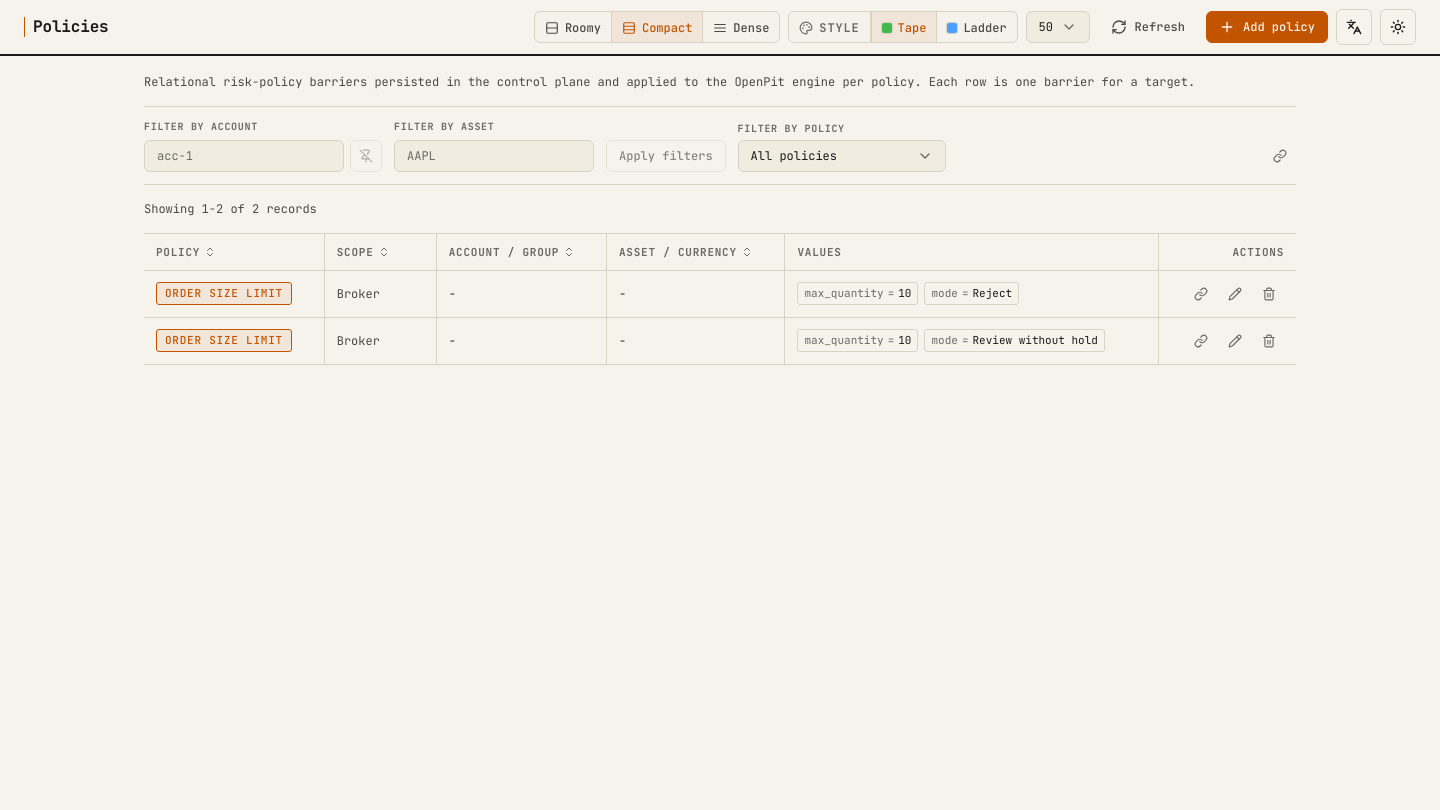
Test: Limits order-size barrier modes › confirms adding review_without_hold only when its existing count is zero (Review without hold, 1)
Click the button "Add policy" at (1267, 27), box [1206,11,1328,43]
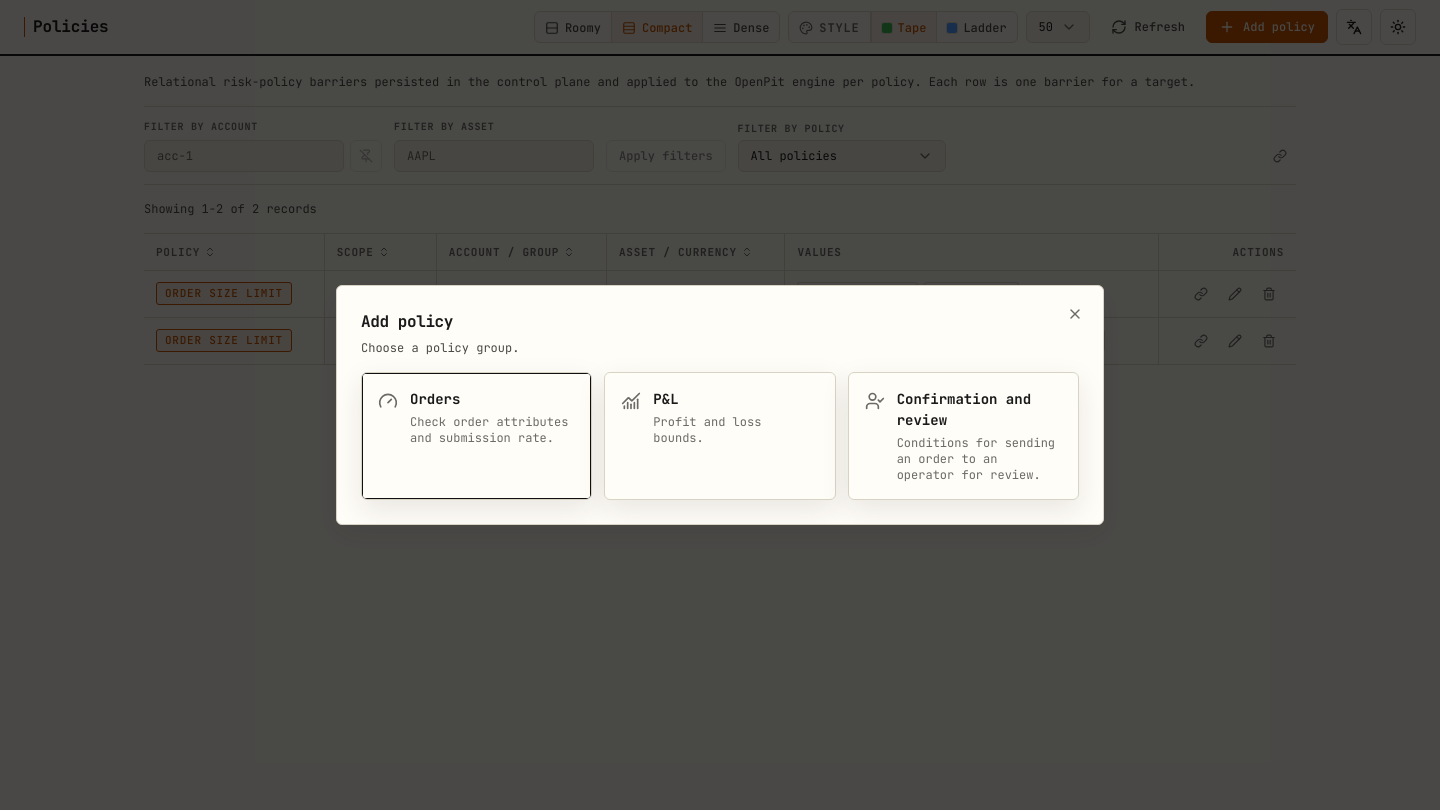
Click the button "Orders Check order attributes and submission rate." at (477, 436), box [362,373,591,499]
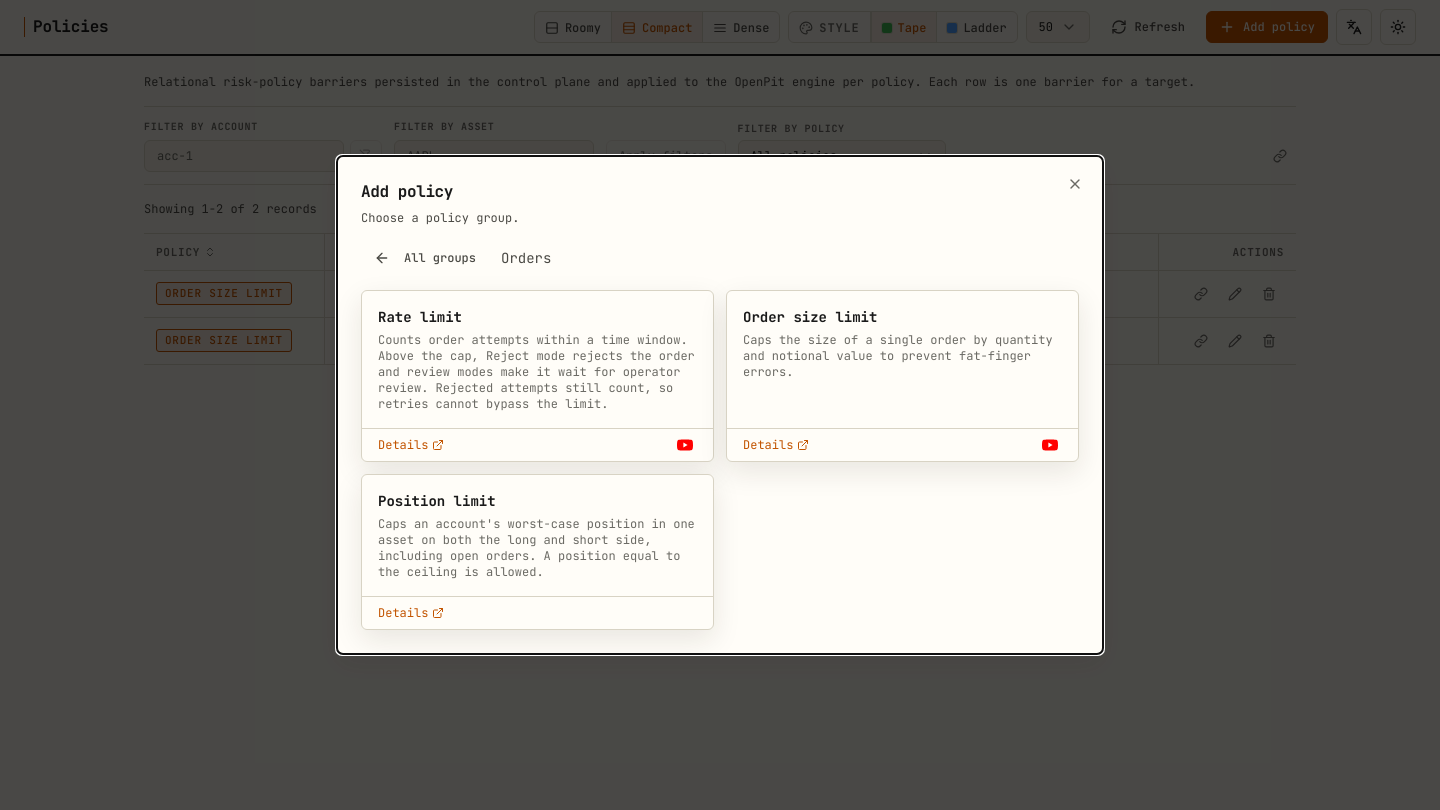
Click the button that starts with "Order size limit" at (902, 360), box [727,291,1078,428]
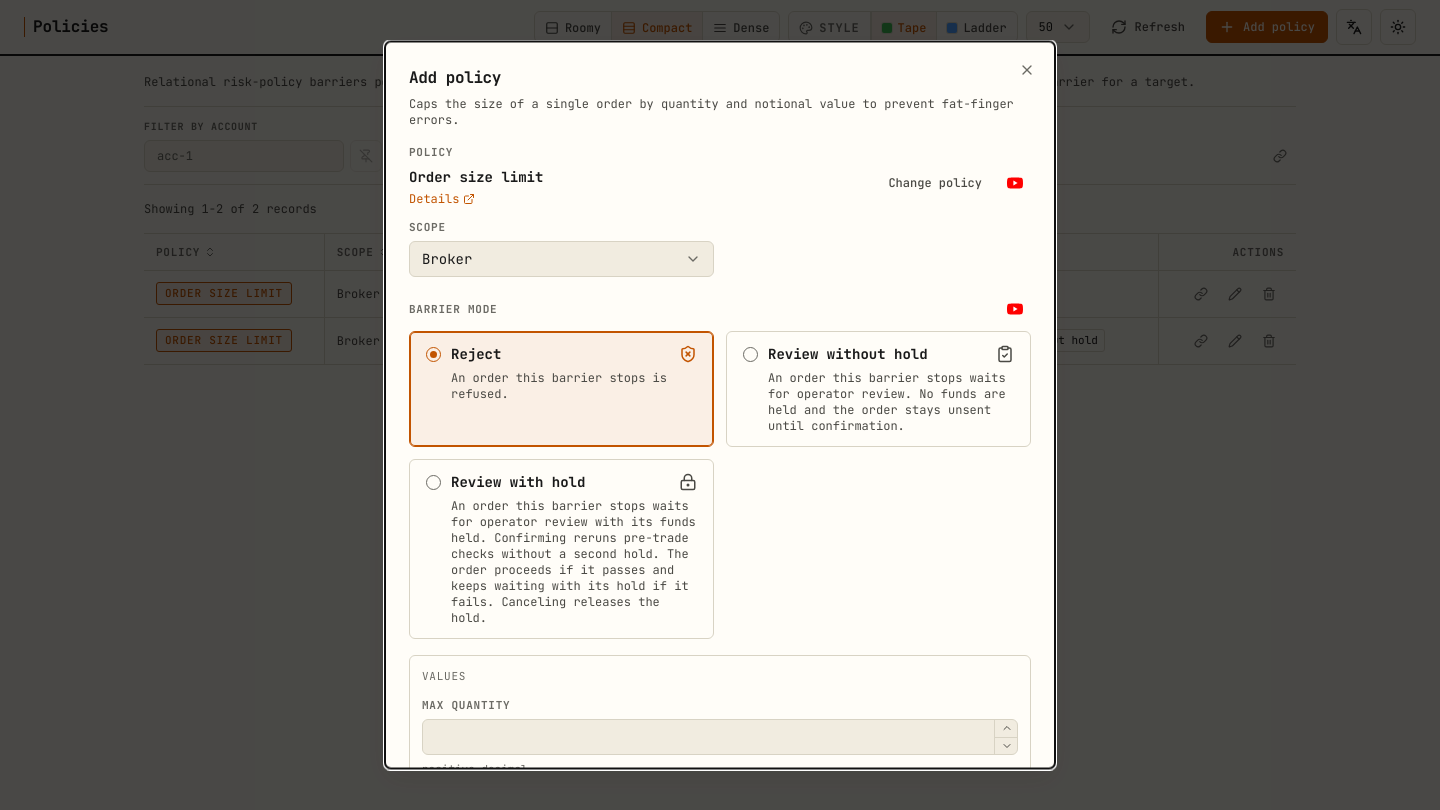
expect the radio button labelled "Reject" is checked: met, box [409,330,714,446]
Click the radio button labelled "Review without hold" at (878, 388), box [726,330,1031,446]
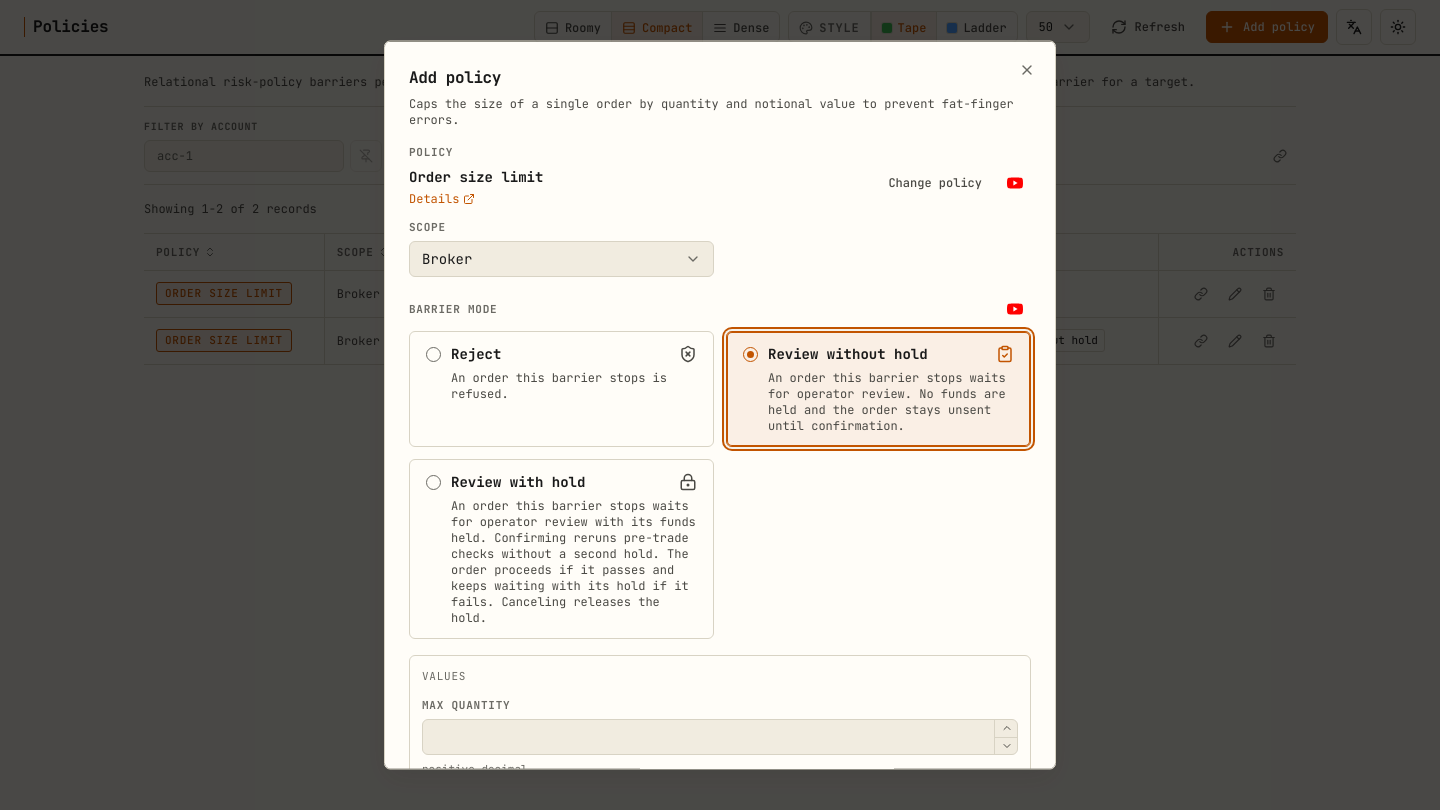
Type "20" into the field labelled "max quantity" at (720, 736), box [422,718,1018,754]
(page scrolled)
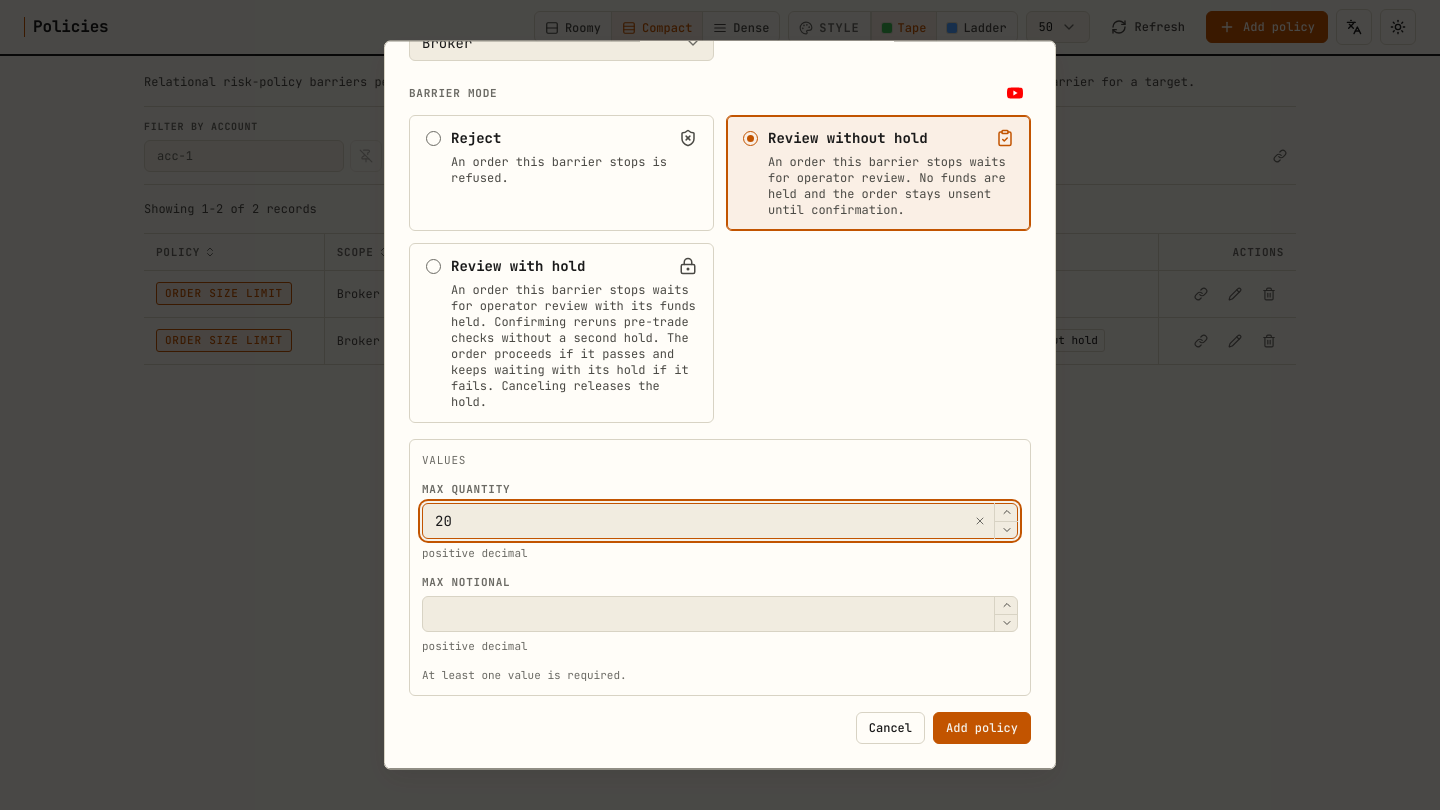
Click the button "Add policy" at (982, 728), box [933,712,1031,744]
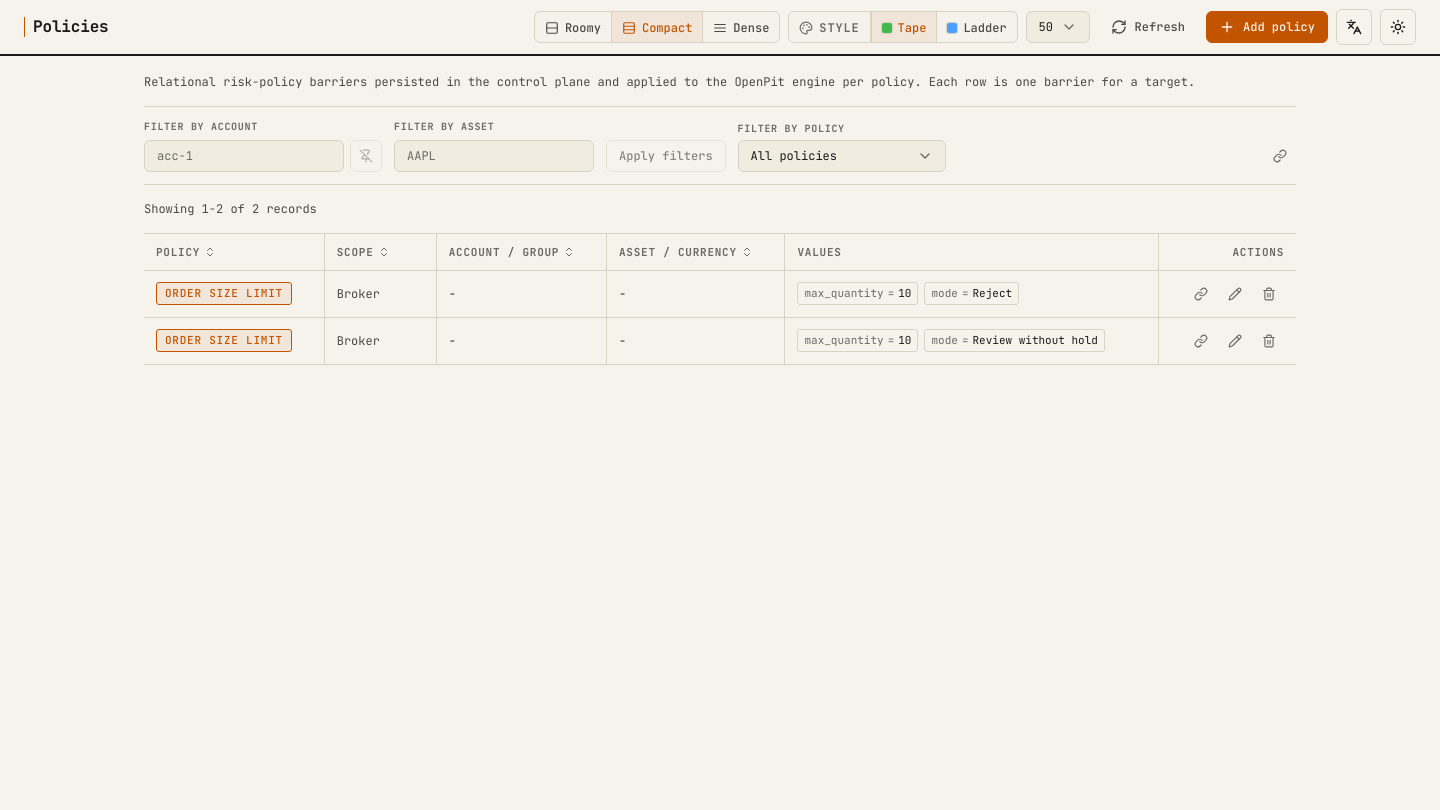
expect the dialog is gone: met
